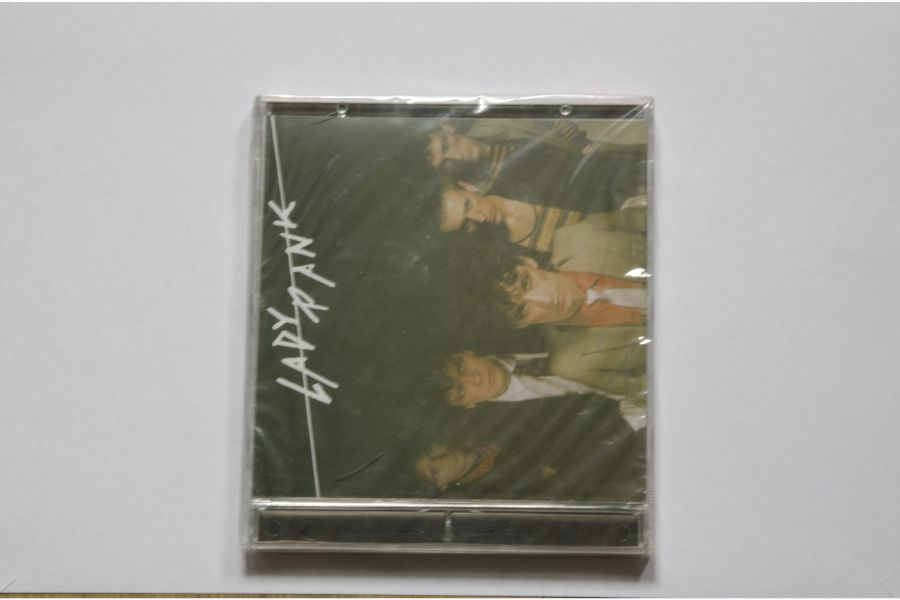album: (242, 91, 658, 558)
